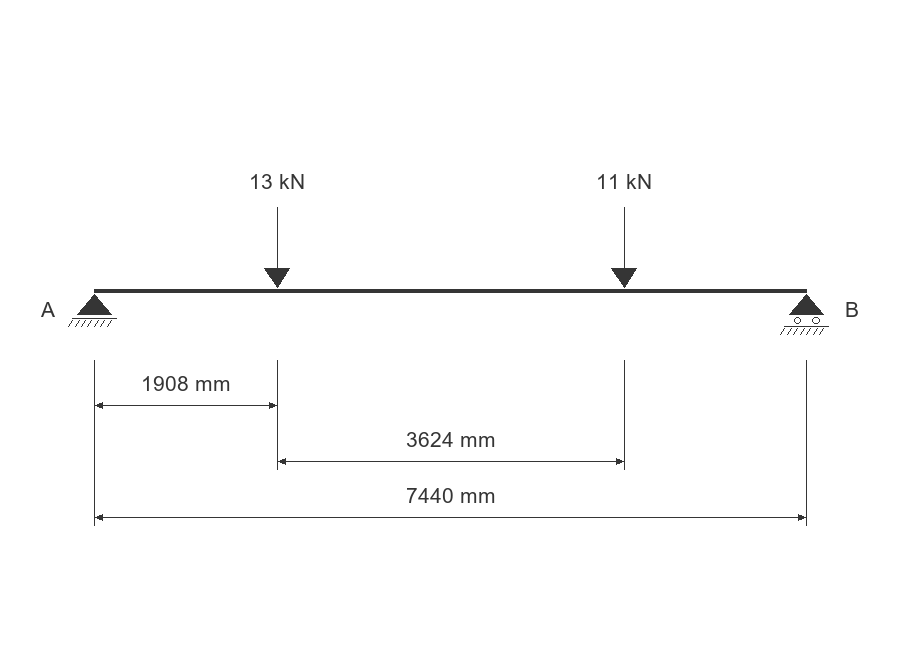pin_support: (68, 294, 117, 327)
point_load: (264, 207, 290, 288), (611, 207, 637, 288)
roller_support: (780, 294, 829, 335)
